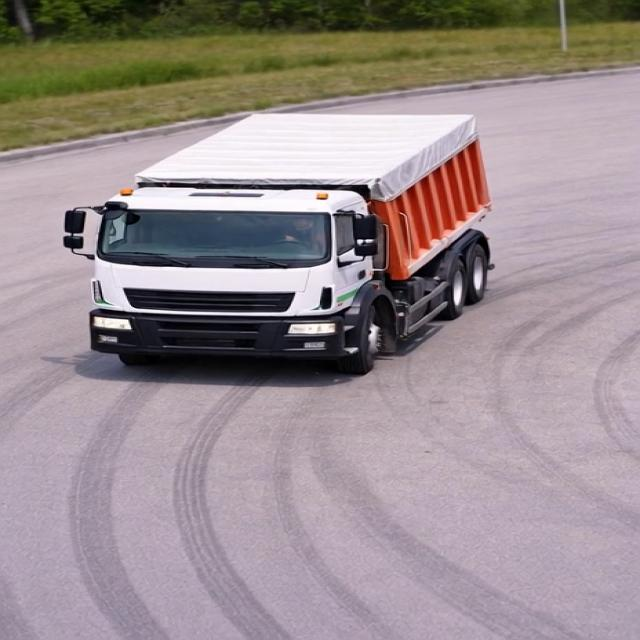trailer: (133, 113, 498, 188)
truck: (59, 90, 512, 374)
